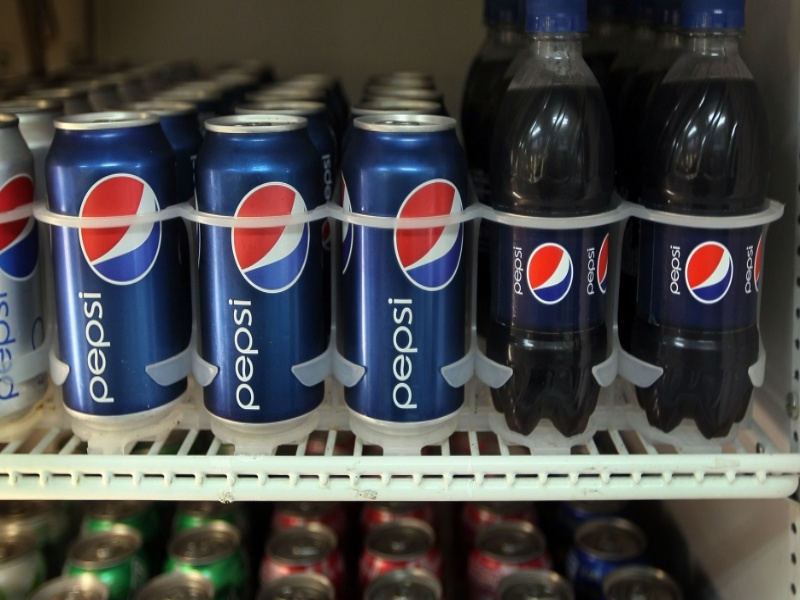Can: (35, 94, 212, 445), (167, 108, 350, 440), (329, 98, 484, 452)
Plastic bottle: (616, 5, 769, 445), (477, 9, 622, 437)
